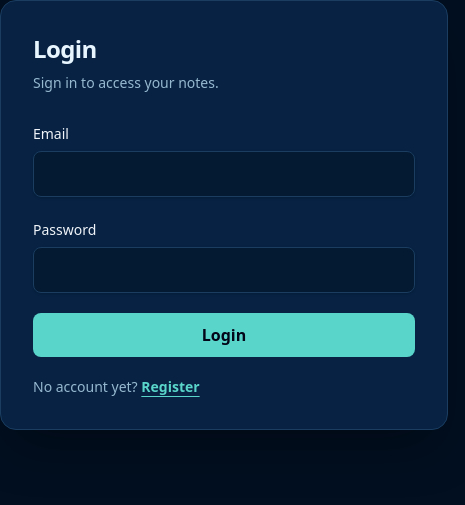
Scenario: CredentialsAuthForm › shows login errors from the auth client
In the field labelled "Email": (224, 174) left=33, top=151, right=415, bottom=197, type "USER@Example.com"
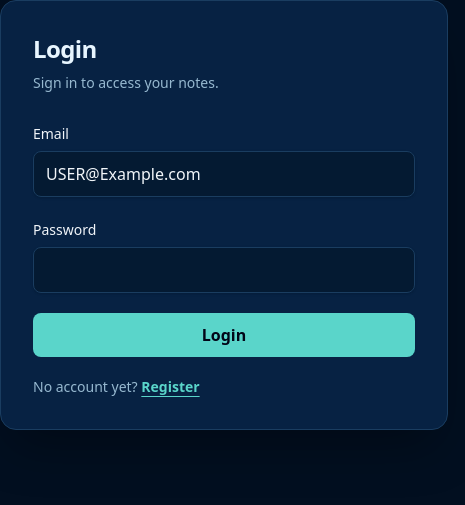
In the password field labelled "Password": (224, 270) left=33, top=247, right=415, bottom=293, type "password123"
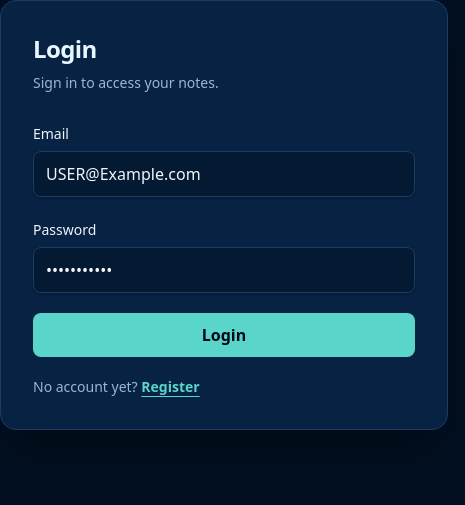
Click the button "Login": (224, 335) left=33, top=313, right=415, bottom=357
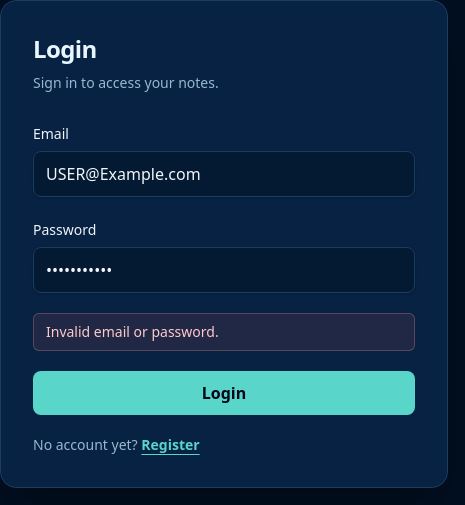
Result: the message reads "Invalid email or password." at left=46, top=322, right=219, bottom=341
